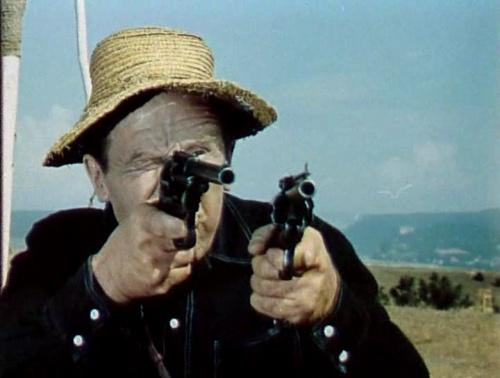Gun: (157, 149, 238, 251), (264, 170, 319, 278)
